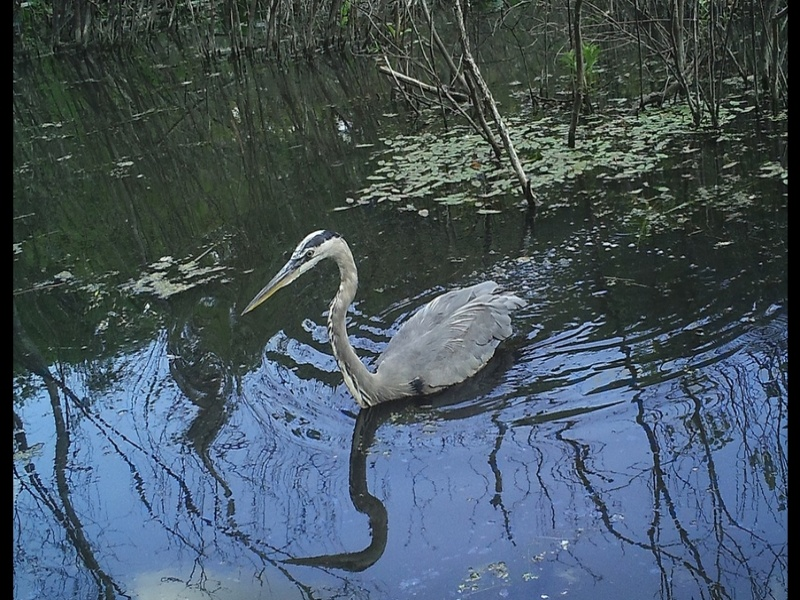heron: (240, 222, 527, 403)
